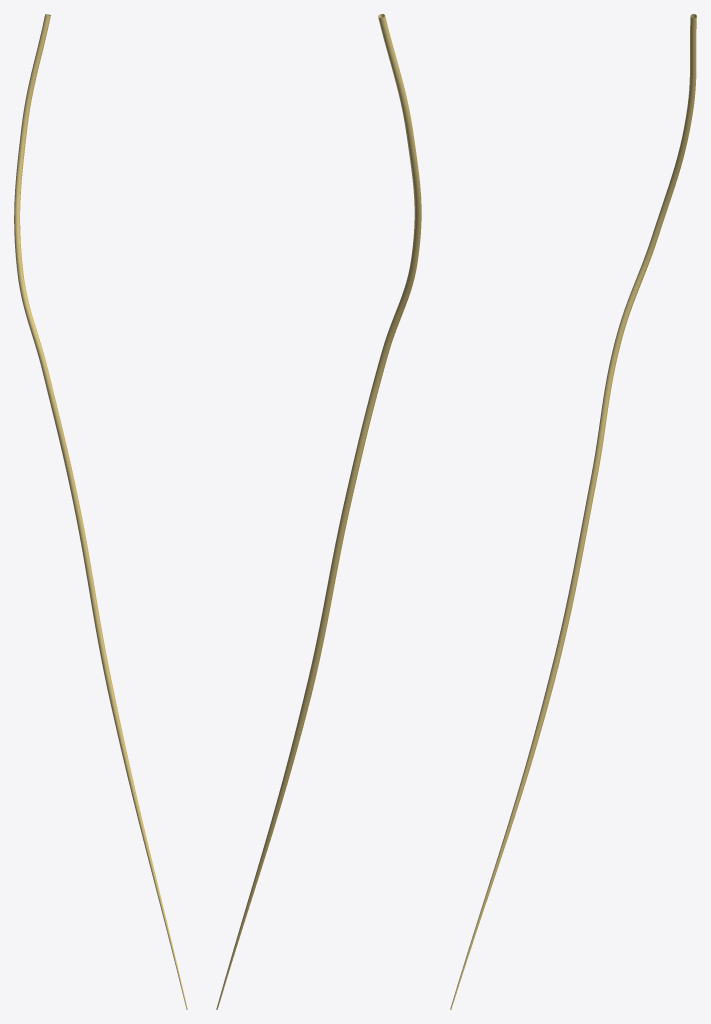
3 renders of one model, left to right at view 1: azimuth 30°, elevation 25°; view 2: azimuth 210°, elevation 25°; view 3: azimuth 270°, elevation 25°, orthographic. The views are drawn at different scales.
Parts seen in each view (by area): view 1: ZA_4e153c13e4abd414; view 2: ZA_4e153c13e4abd414; view 3: ZA_4e153c13e4abd414.
Part boxes in pixels (<box>): ZA_4e153c13e4abd414: <box>14,14,187,1009</box>; ZA_4e153c13e4abd414: <box>216,14,421,1009</box>; ZA_4e153c13e4abd414: <box>450,14,696,1009</box>.
Size of the model in its own units: 0.0143 by 0.1673 by 0.0381.
